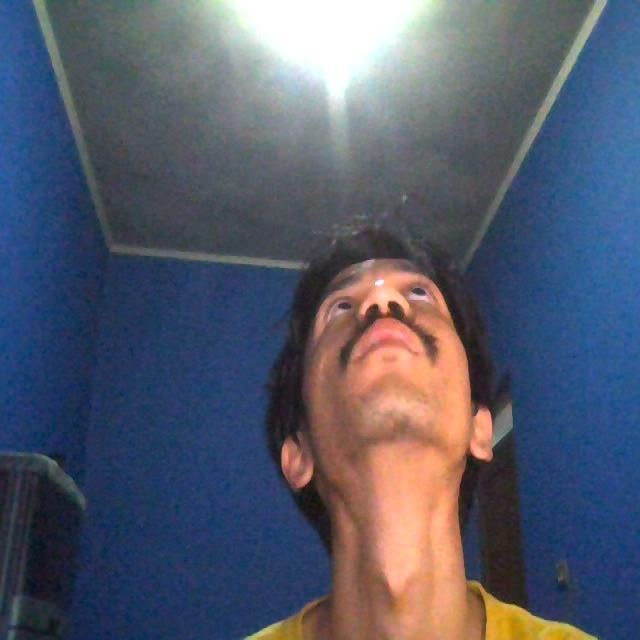Melihat keatas: (260, 245, 512, 572)
